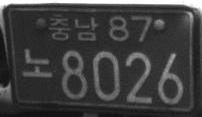0: (91, 49, 122, 102)
2: (124, 50, 153, 104)
6: (156, 51, 184, 106)
7: (131, 14, 153, 43)
8: (60, 48, 89, 101), (107, 14, 130, 42)
노: (21, 47, 52, 78)
충남_O: (48, 12, 99, 42)
